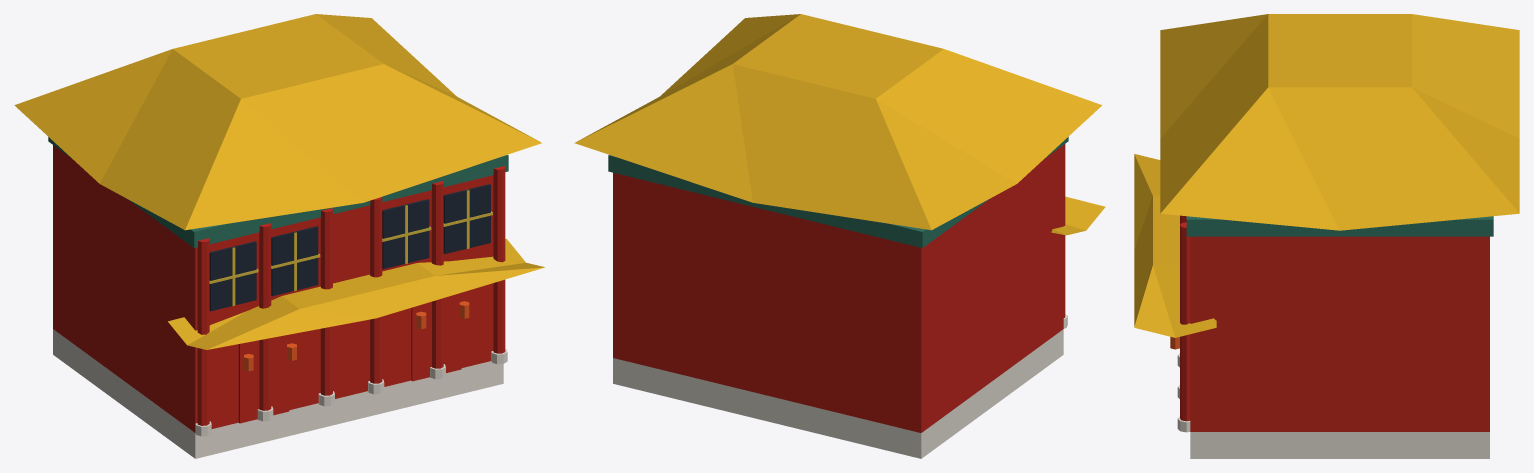
Rendered from building_eastyork_s1_imperial_terrace.glb.
3 renders of one model, left to right at view 1: azimuth 30°, elevation 25°; view 2: azimuth 150°, elevation 25°; view 3: azimuth 270°, elevation 25°, orthographic. The views are drawn at different scales.
Parts seen in each view (by area): view 1: building_eastyork_s1_imperial_terrace; view 2: building_eastyork_s1_imperial_terrace; view 3: building_eastyork_s1_imperial_terrace.
Part boxes in pixels (x1,y1,x2,y2): building_eastyork_s1_imperial_terrace: (14, 14, 544, 458); building_eastyork_s1_imperial_terrace: (574, 14, 1105, 458); building_eastyork_s1_imperial_terrace: (1134, 14, 1519, 458).
Size of the model in its own units: 11.6 by 9.7 by 10.3.
Materials: 1 (1 with a texture image).
